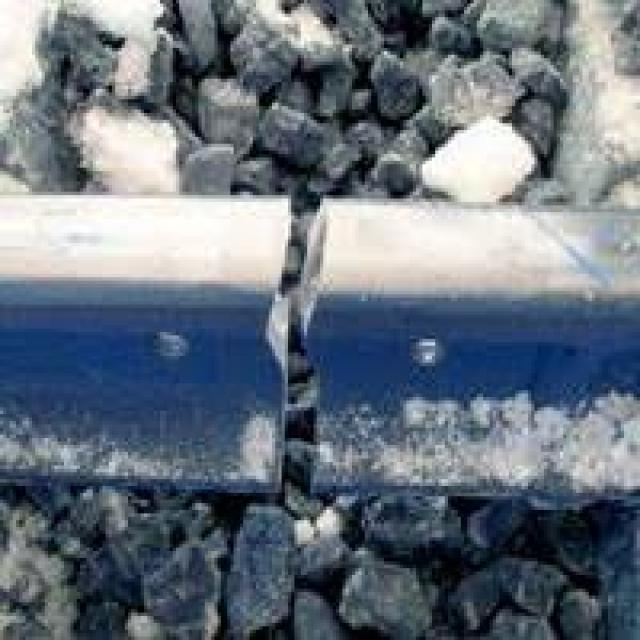broken_rail_high: (251, 199, 362, 488)
